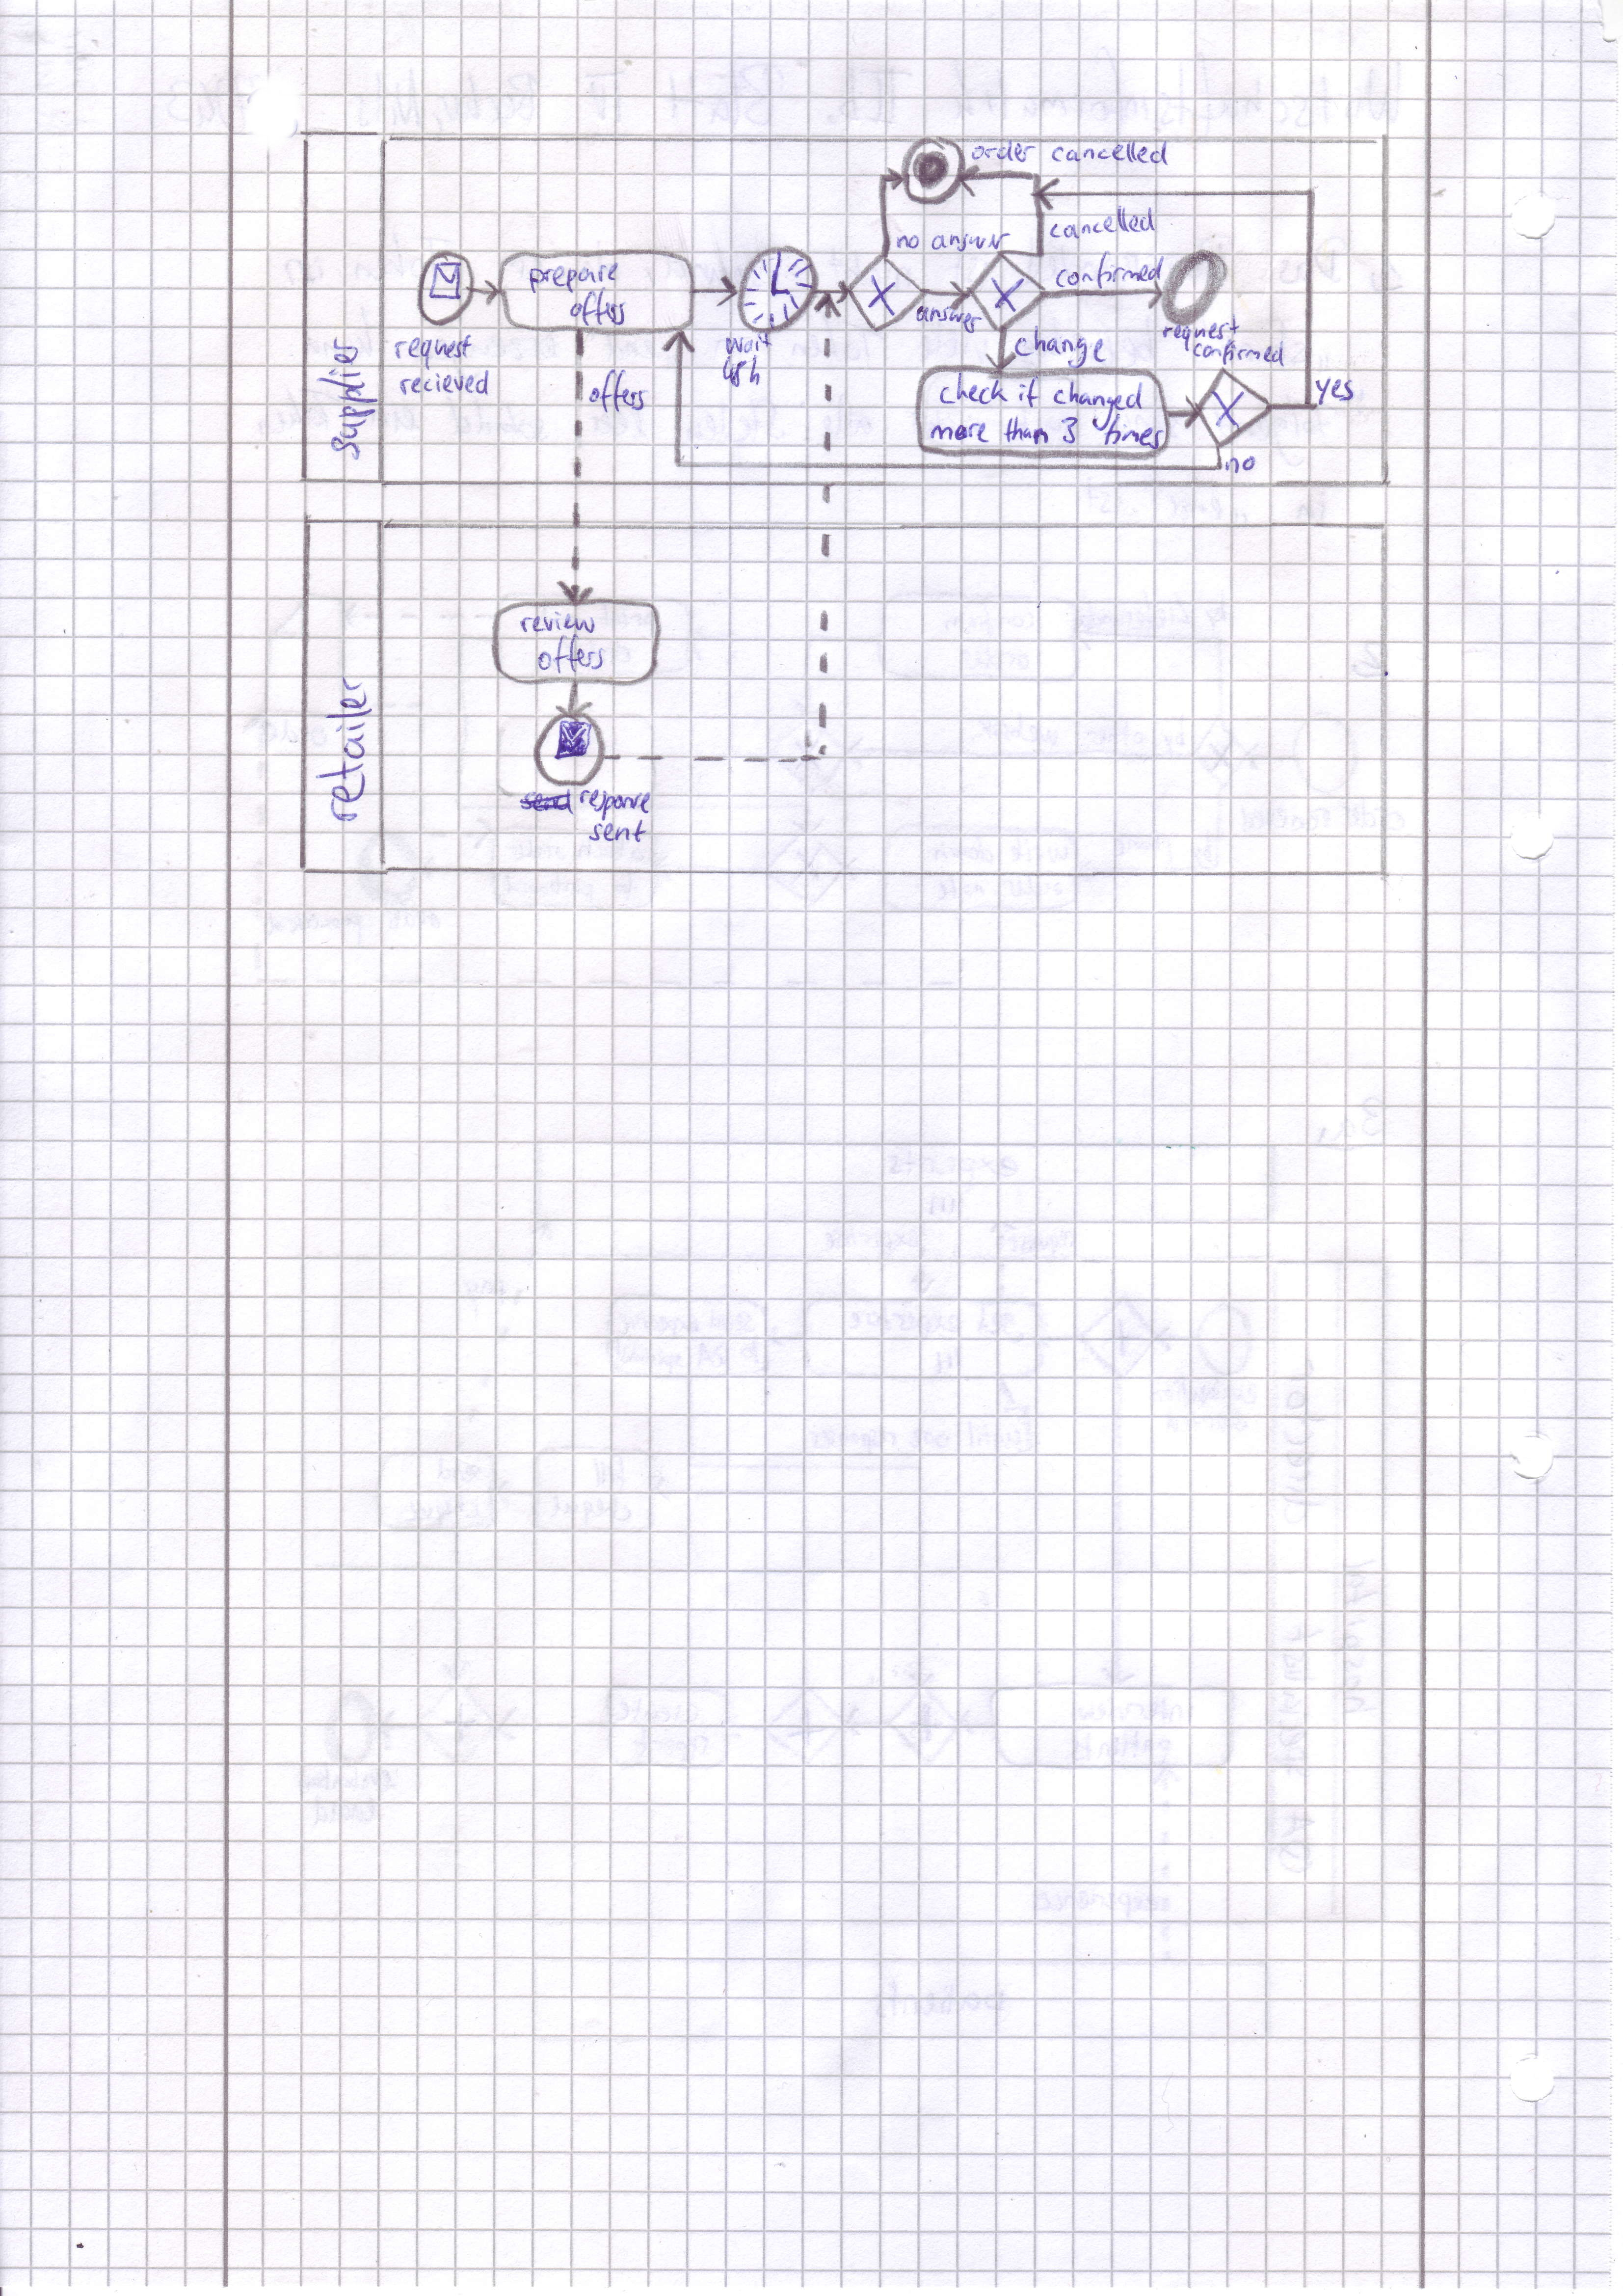3: (1061, 413, 1080, 451)
48: (720, 357, 745, 390)
Supplier: (321, 339, 374, 464)
Wait: (729, 329, 775, 360)
answer: (910, 293, 985, 339), (934, 228, 1012, 253)
cancelled: (1047, 204, 1159, 246), (1049, 139, 1173, 172)
change: (1008, 329, 1112, 365)
changed: (1052, 379, 1149, 411)
check: (936, 374, 1003, 413)
confirmed: (1052, 253, 1175, 295), (1187, 336, 1291, 369)
h: (747, 355, 762, 390)
if: (1008, 378, 1043, 416)
more: (933, 411, 987, 444)
no: (1226, 451, 1254, 478), (898, 230, 920, 251)
offer: (562, 290, 632, 332)
offers: (585, 371, 652, 416), (536, 643, 608, 676)
order: (970, 137, 1038, 165)
prepare: (518, 256, 624, 290)
recieved: (395, 371, 494, 401)
request: (1156, 316, 1242, 348), (390, 336, 478, 365)
response: (574, 789, 659, 820)
retailer: (323, 680, 372, 826)
review: (516, 611, 601, 639)
sent: (588, 817, 650, 847)
than: (996, 415, 1056, 450)
times: (1100, 416, 1168, 453)
yes: (1305, 374, 1354, 408)
